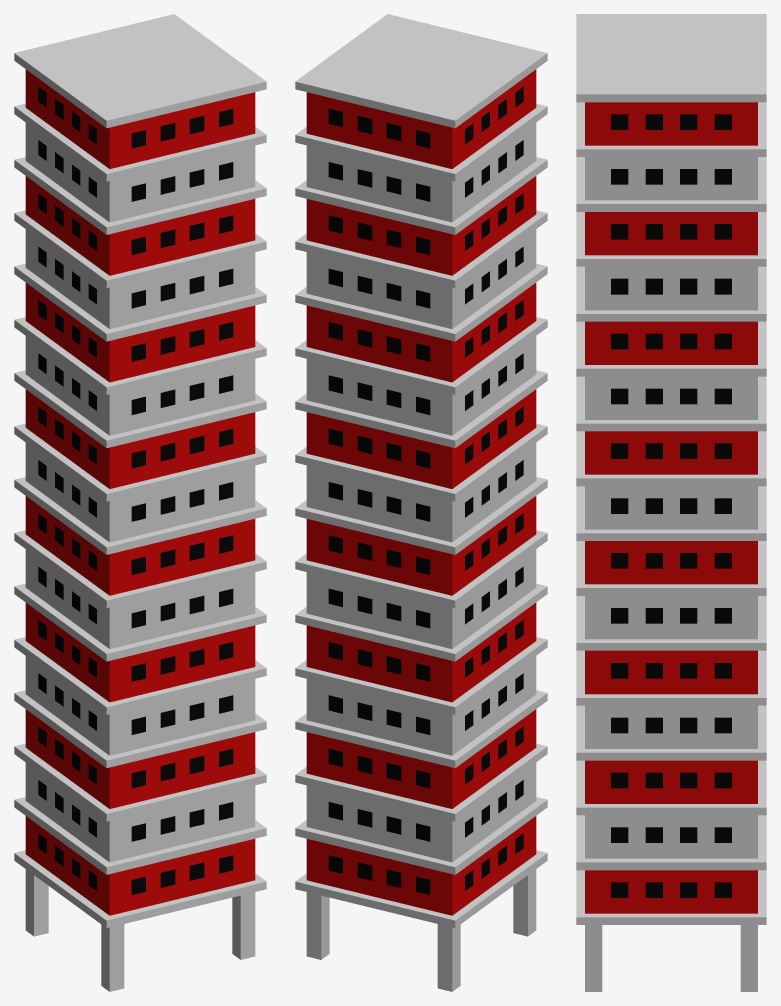
Rendered from HDB_01.gltf.
The picture shows the model from 3 angles, left to right: view 1: azimuth 30°, elevation 25°; view 2: azimuth 150°, elevation 25°; view 3: azimuth 270°, elevation 25°; orthographic projection. The views are drawn at different scales.
Visible parts, largest first — view 1: HDB_prototype; view 2: HDB_prototype; view 3: HDB_prototype.
Part boxes in pixels (box(x1,y1,x2,y2)): HDB_prototype: box(14, 14, 266, 991); HDB_prototype: box(295, 14, 547, 991); HDB_prototype: box(576, 14, 766, 991).
Bounding box in the file's own units: 11 × 57.5 × 11.
